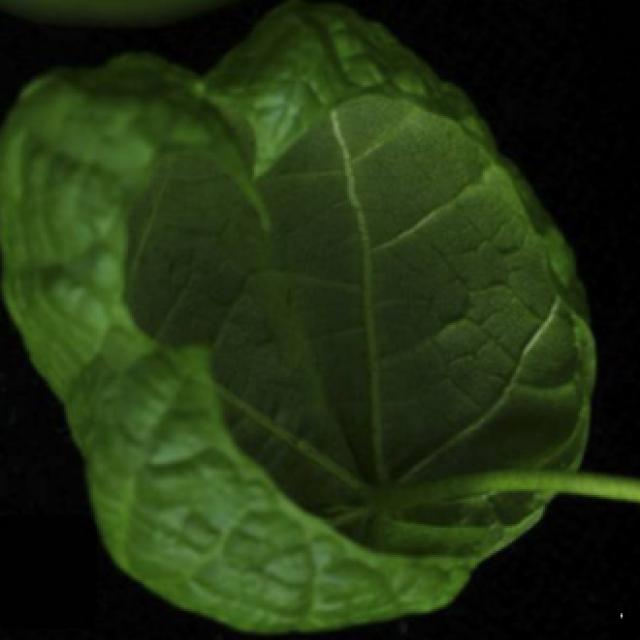Leaf Curl Virus: (70, 78, 513, 565)
